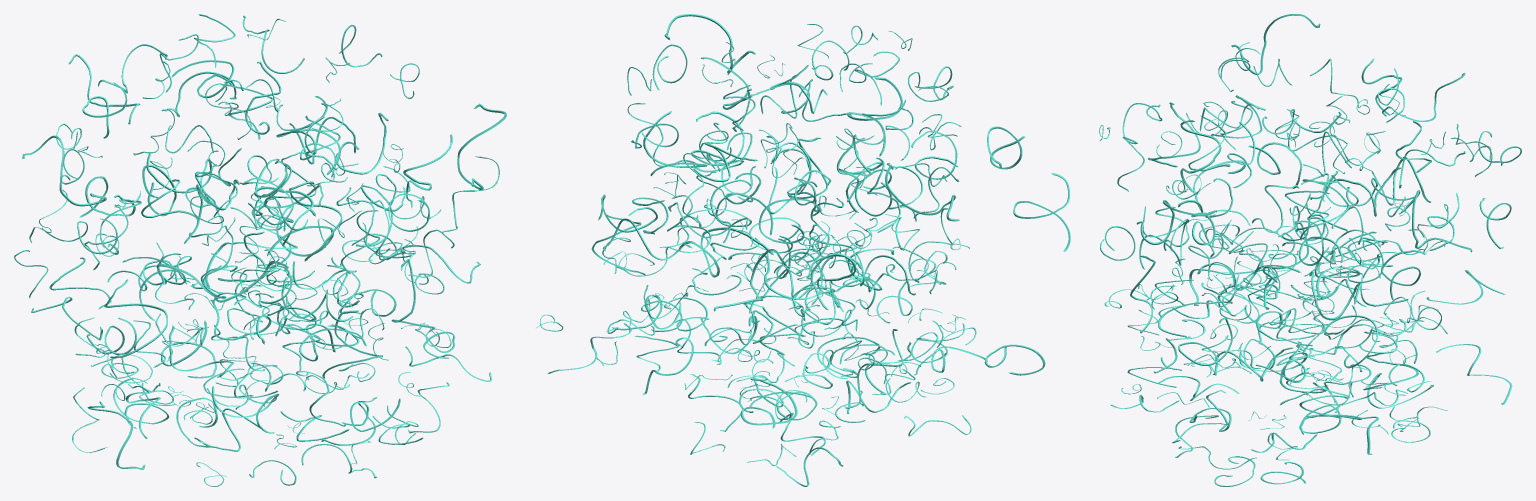
File: ribbons_draco.glb
3 renders of one model, left to right at view 1: azimuth 30°, elevation 25°; view 2: azimuth 150°, elevation 25°; view 3: azimuth 270°, elevation 25°, orthographic. The views are drawn at different scales.
Visible parts, largest first — view 1: SPAGHETTI_1, SPAGHETTI; view 2: SPAGHETTI_1, SPAGHETTI; view 3: SPAGHETTI_1, SPAGHETTI.
Boxes of the visible parts, left/top/right/bottom form: SPAGHETTI_1: left=14, top=14, right=506, bottom=378; SPAGHETTI: left=31, top=158, right=491, bottom=486; SPAGHETTI_1: left=591, top=14, right=1070, bottom=408; SPAGHETTI: left=535, top=160, right=1045, bottom=486; SPAGHETTI_1: left=1099, top=14, right=1521, bottom=368; SPAGHETTI: left=1104, top=214, right=1512, bottom=486.
Size of the model in its own units: 48.7 by 44.85 by 44.73.
